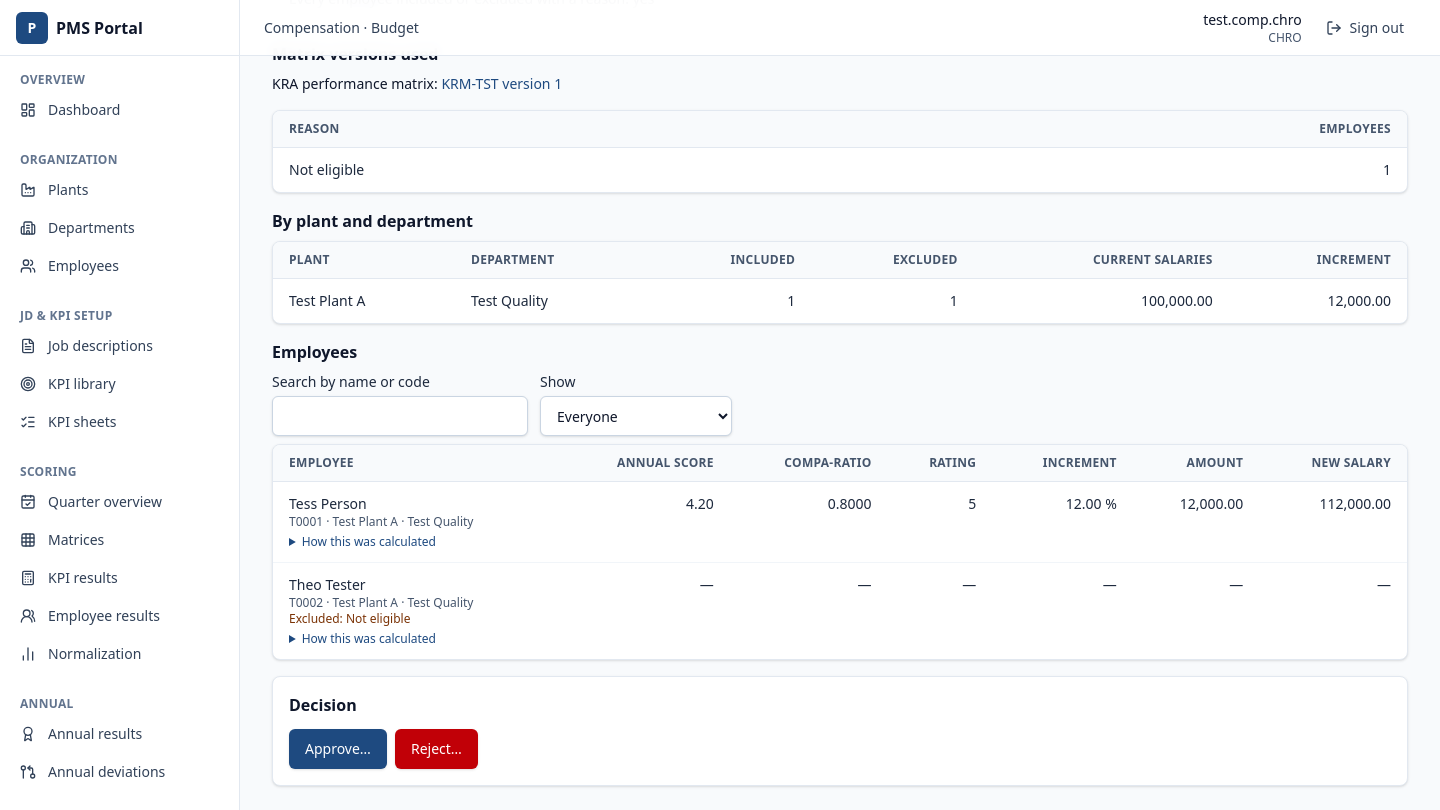
it: budget scenarios › requires a reason before the CHRO approves the final budget
The width and height of the screenshot is (1440, 810).
(page scrolled)
Click the button "Approve…".
click(338, 749)  # box [289,729,387,769]
(page scrolled)
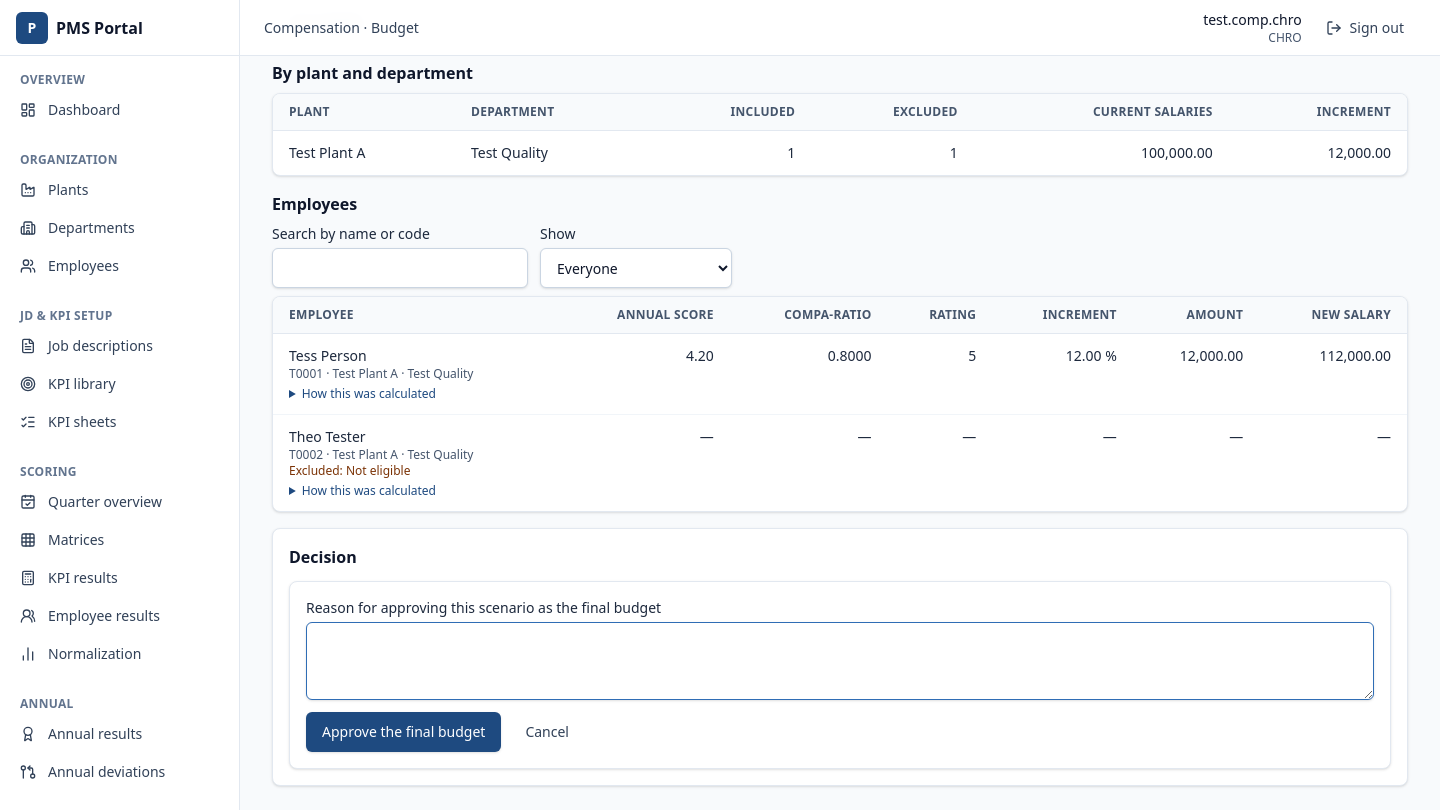
Type "Too short" into the text box labelled "Reason for approving this scenario as the final budget".
click(840, 661); type("Too short")  # box [306,622,1374,700]
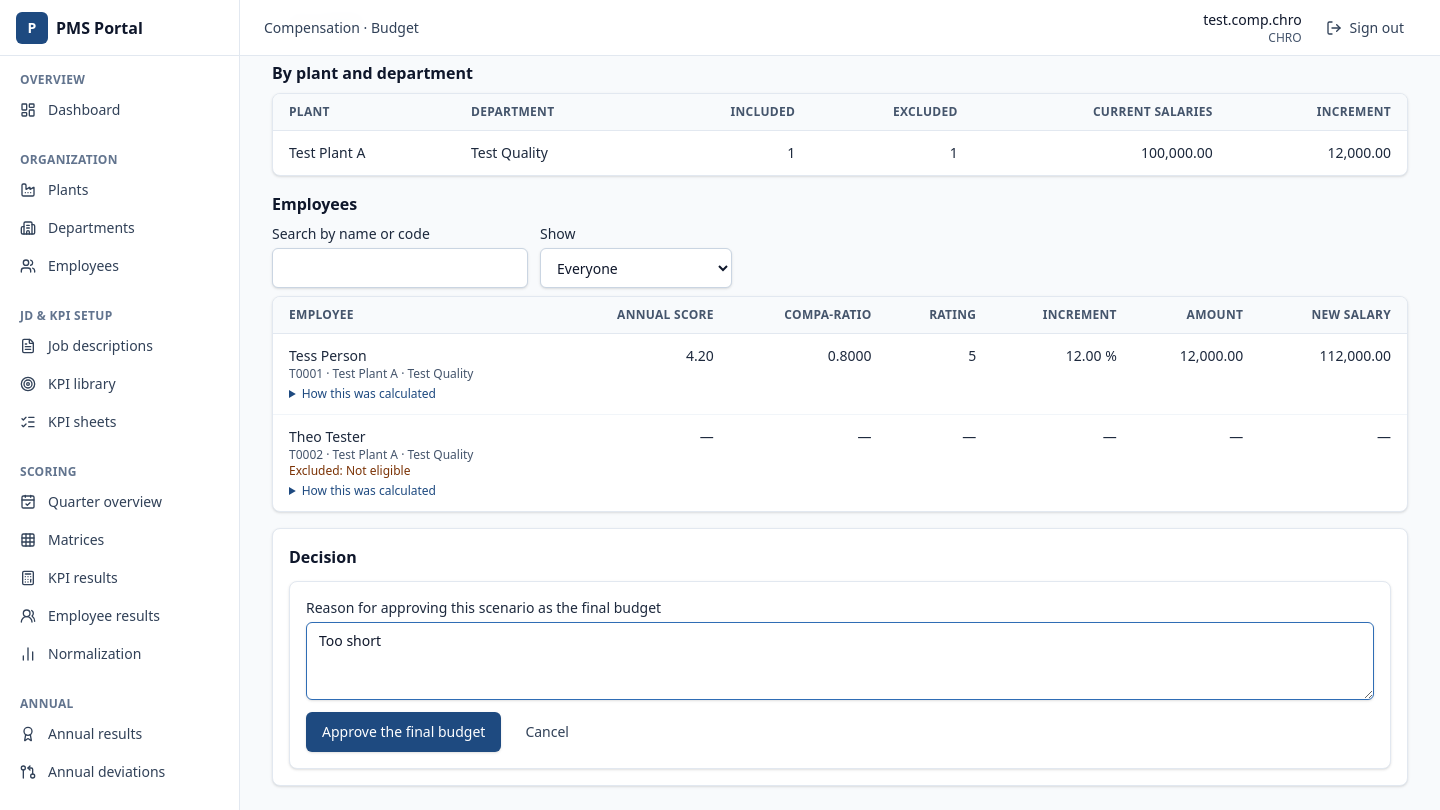
Click the button "Approve the final budget".
click(404, 732)  # box [306,712,501,752]
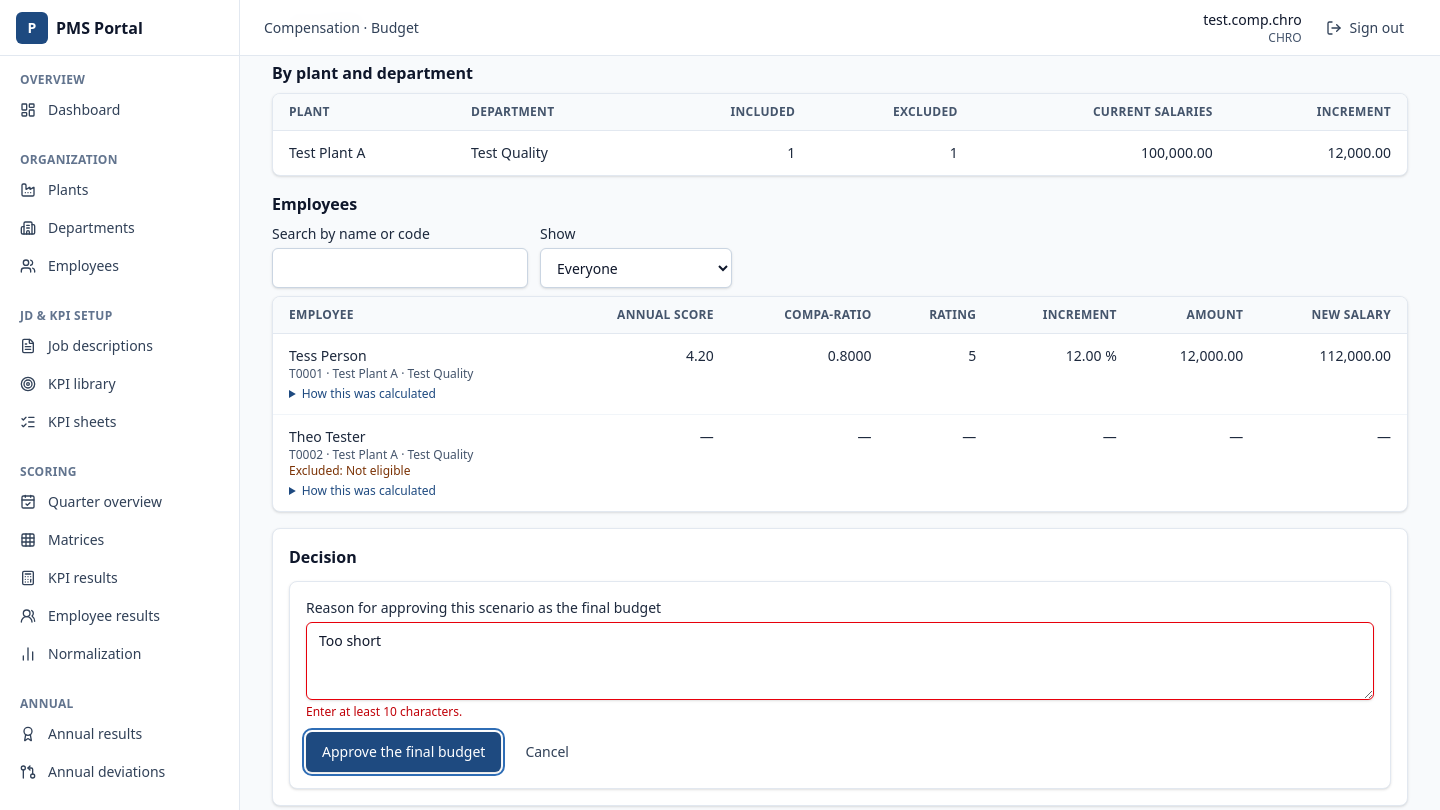
Expected: the text "Enter at least 10 characters." is shown, [306,703,462,720]
Replace the text in the text box labelled "Reason for approving this scenario as the final budget" with "Approved within the board envelope" at (840, 661), box [306,622,1374,700]
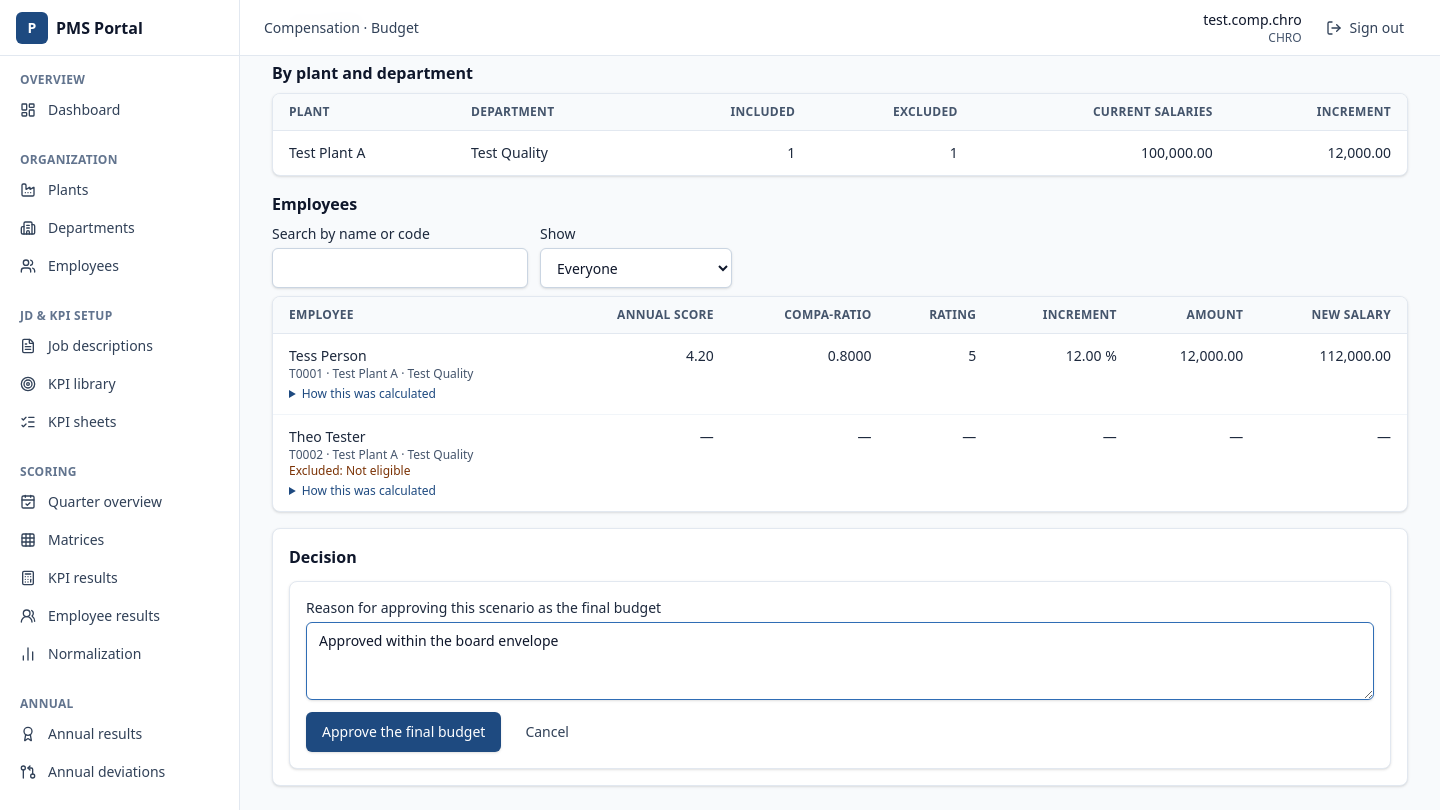
Click the button "Approve the final budget".
click(404, 732)  # box [306,712,501,752]
(page scrolled)
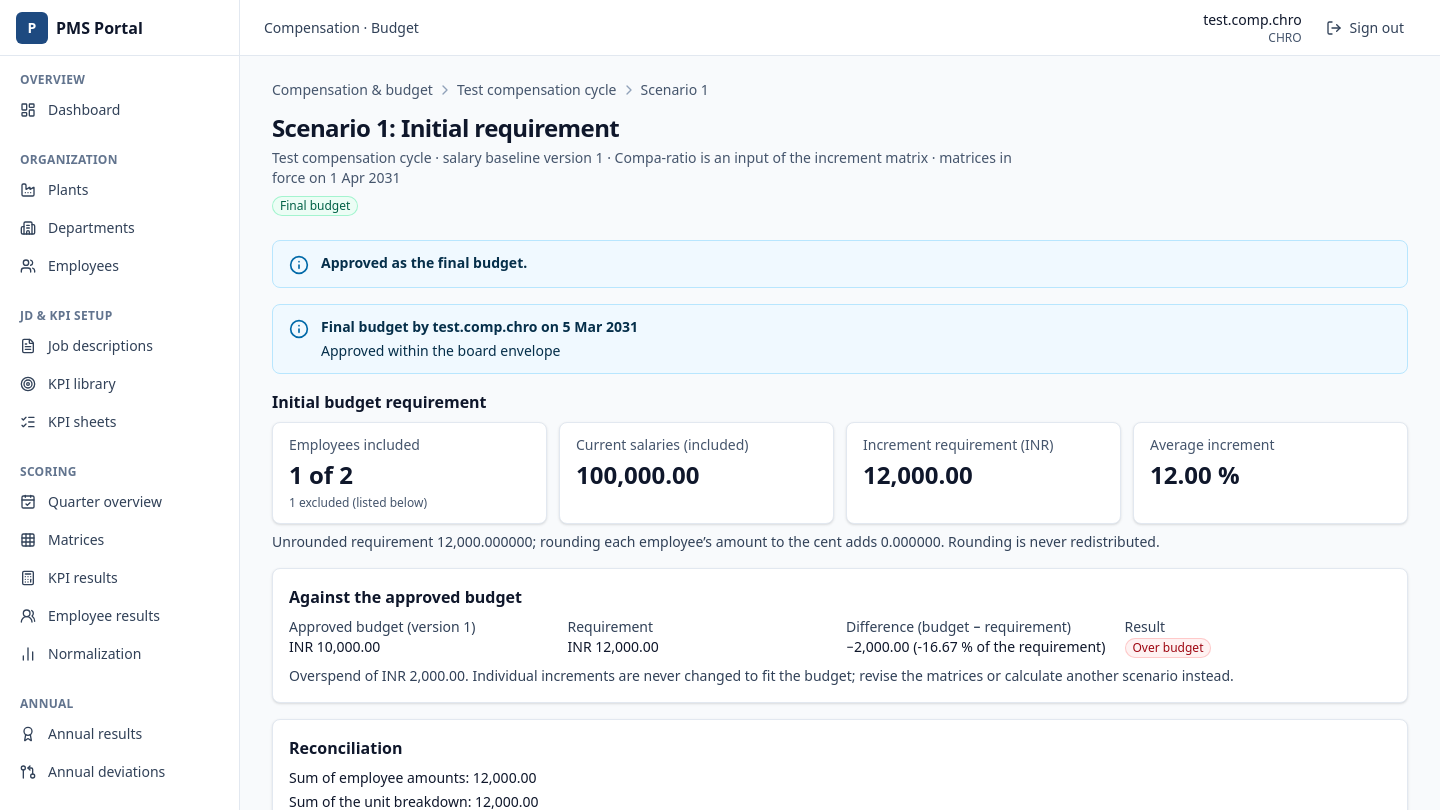
Expected: the button "Approve…" is not shown
Expected: the text "Approved as the final budget." is shown, [321,253,527,272]
